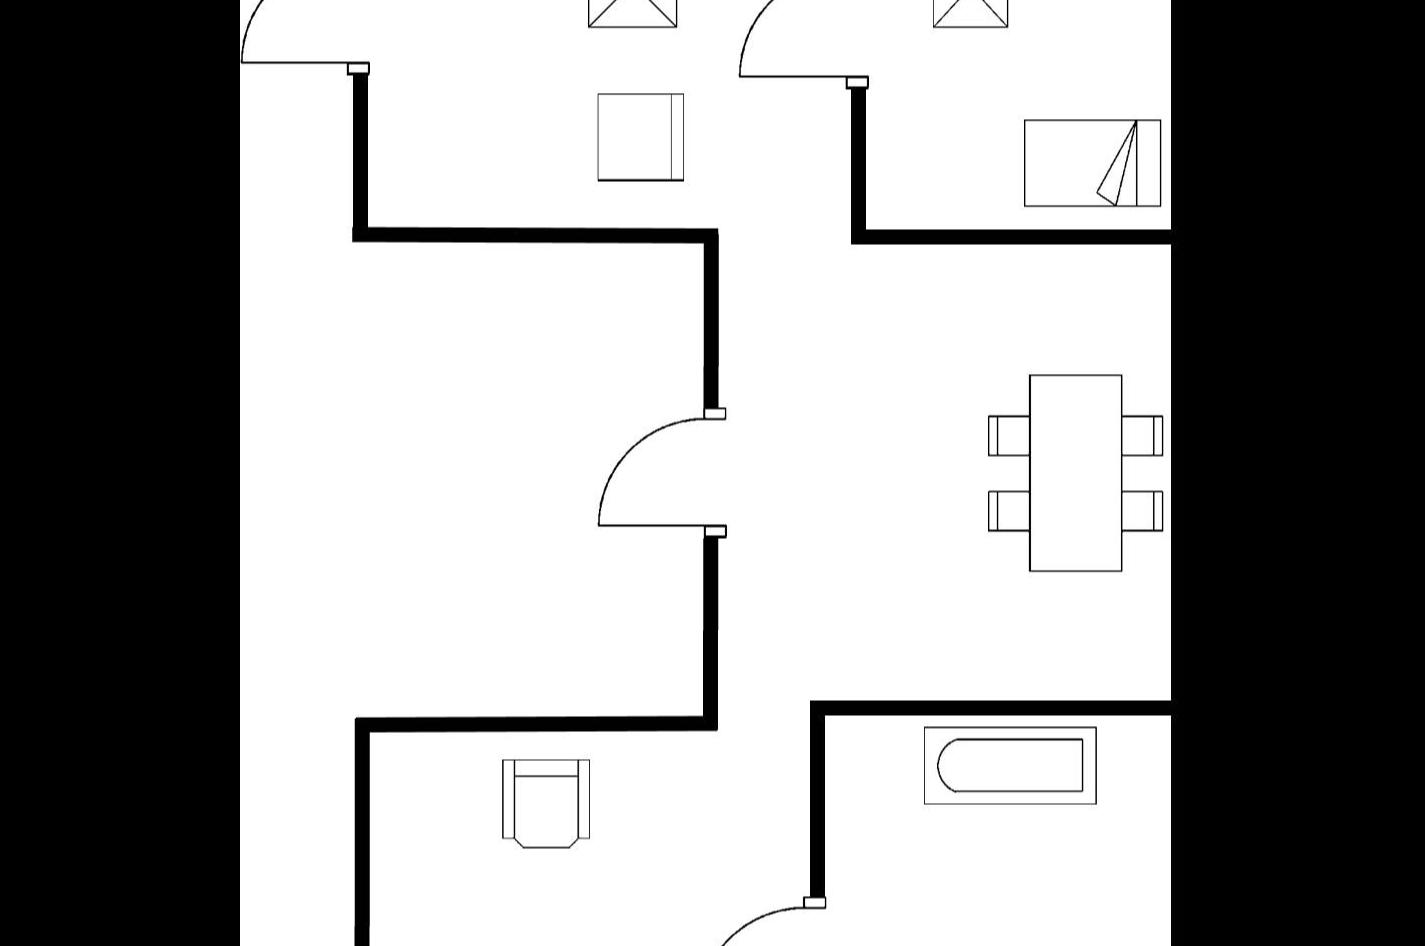bed: (1019, 113, 1166, 213)
dining_table: (981, 366, 1168, 581)
tub: (918, 720, 1105, 813)
